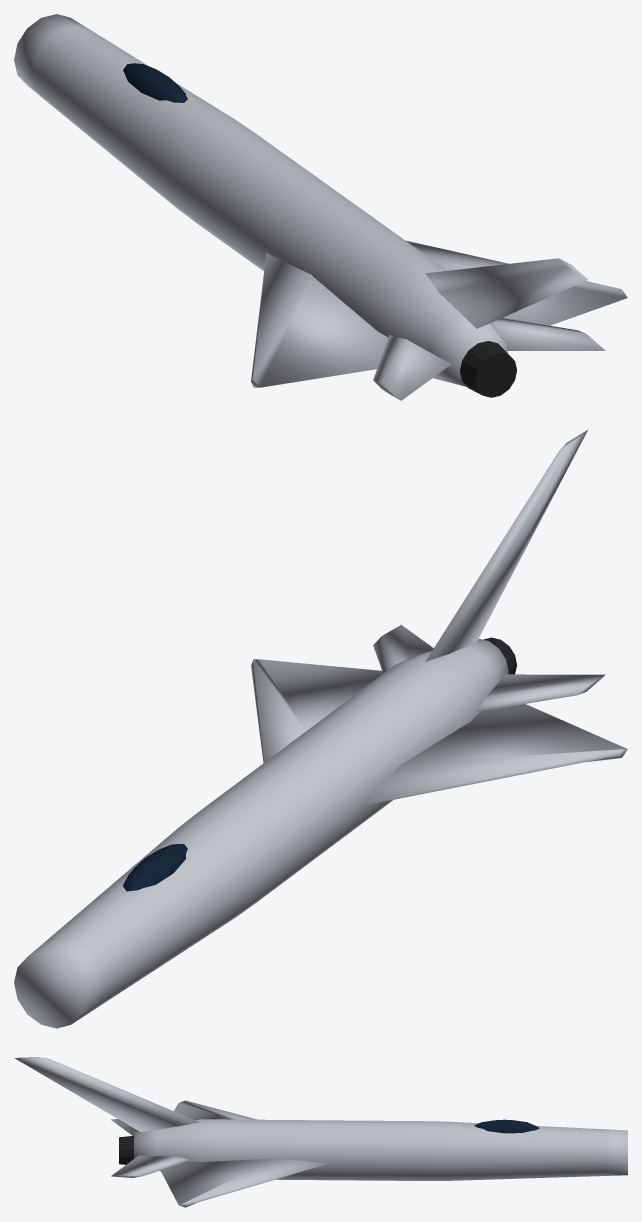
The model's file is mig21.obj.
3 renders of one model, top to bottom at view 1: azimuth 30°, elevation 25°; view 2: azimuth 150°, elevation 25°; view 3: azimuth 270°, elevation 25°, orthographic. The views are drawn at different scales.
Parts seen in each view (by area): view 1: Body, Detail, Canopy; view 2: Body, Canopy; view 3: Body, Canopy, Detail.
Part boxes in pixels (box(x1,y1,x2,y2)): Body: box(14, 14, 627, 400); Detail: box(460, 341, 516, 397); Canopy: box(123, 63, 187, 102); Body: box(14, 430, 627, 1028); Canopy: box(123, 844, 187, 891); Body: box(14, 1057, 627, 1207); Canopy: box(474, 1119, 539, 1133); Detail: box(119, 1136, 133, 1164).
Bounding box in the file's own units: 7.2 × 3.95 × 18.27.
